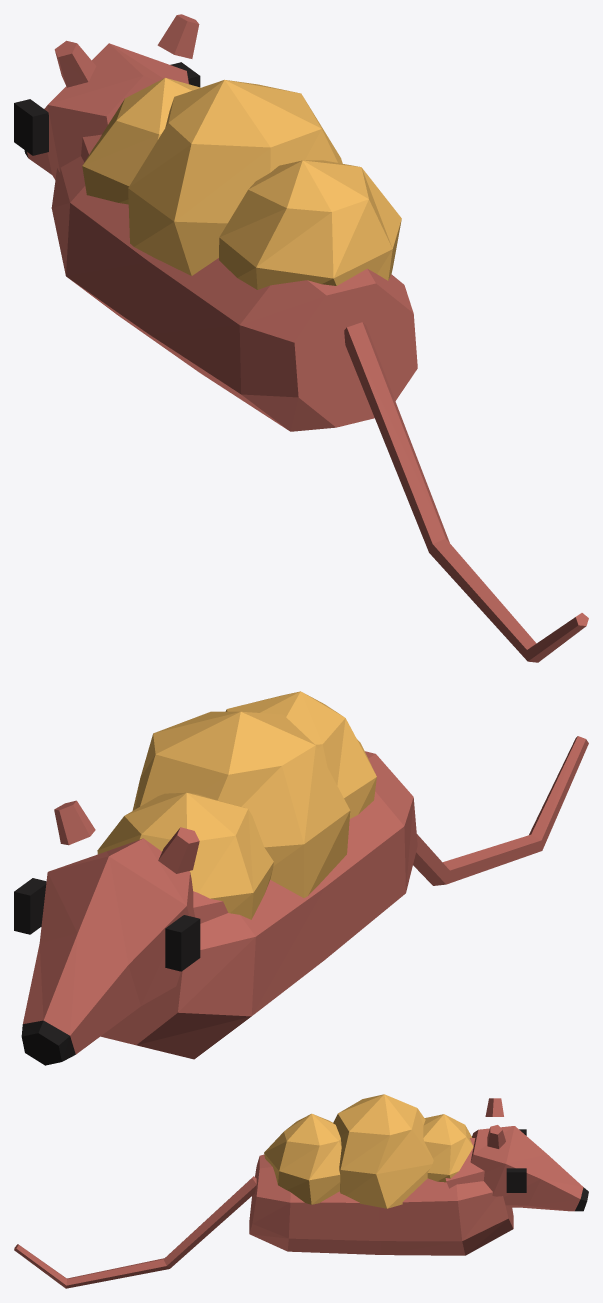
Rendered from animal_boomrat.obj.
3 renders of one model, top to bottom at view 1: azimuth 30°, elevation 25°; view 2: azimuth 150°, elevation 25°; view 3: azimuth 270°, elevation 25°, orthographic. The views are drawn at different scales.
Parts seen in each view (by area): view 1: animal_boomrat; view 2: animal_boomrat; view 3: animal_boomrat.
Boxes of the visible parts, x1=… form: animal_boomrat: x1=14, y1=14, x2=588, y2=662; animal_boomrat: x1=14, y1=691, x2=588, y2=1065; animal_boomrat: x1=14, y1=1094, x2=588, y2=1288.
Bounding box in the file's own units: 0.1956 × 0.342 × 0.9297.
